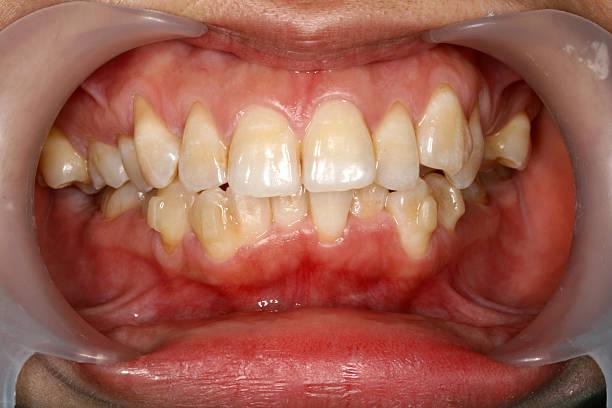Gingivitis: (138, 249, 442, 314)
